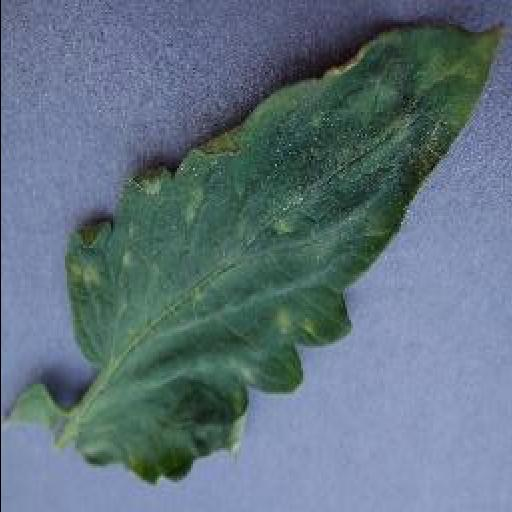disease_tomato: (48, 20, 506, 486)
